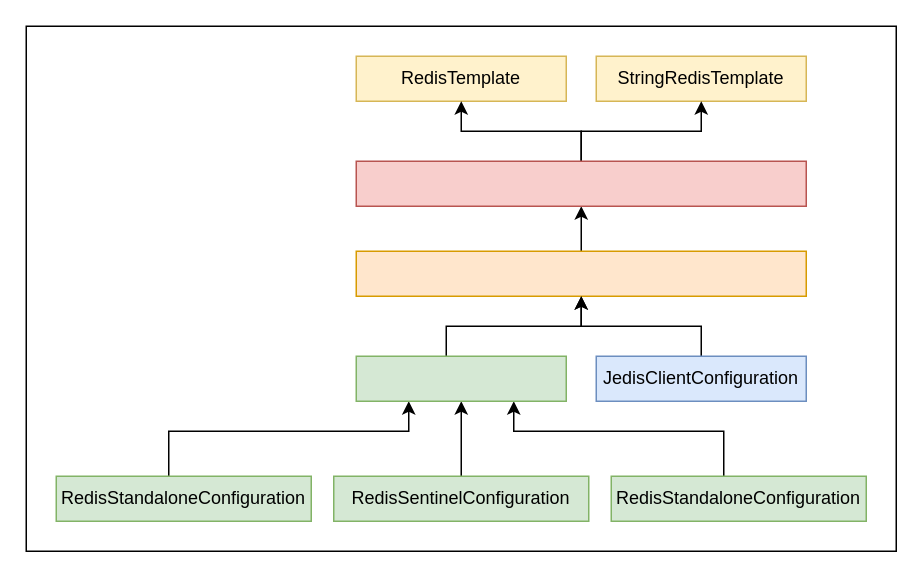
The diagram is 923 pixels wide and 578 high, and some of its shapes have lost their labels. Here are the shapes that lost their labels. From the top down, the centre of each, then its label:
pixel 580 183: JedisClientConfigurationBuilderCustomizer
pixel 580 273: RedisConnectionFactory
pixel 460 378: RedisConfiguration
